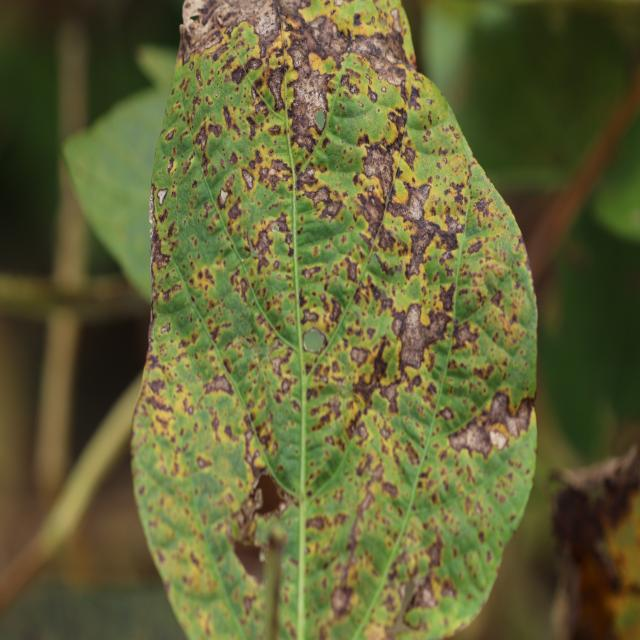Bacterial_Blight: (335, 404, 413, 498), (391, 292, 453, 376), (469, 226, 530, 307), (230, 469, 289, 545), (354, 30, 412, 91), (297, 13, 349, 67), (351, 343, 392, 409), (248, 211, 291, 271), (485, 389, 533, 440), (360, 141, 398, 203), (306, 391, 348, 439), (252, 155, 293, 197), (297, 179, 339, 218), (185, 467, 227, 499), (252, 2, 283, 42), (366, 253, 401, 287), (150, 229, 174, 278), (264, 65, 286, 111), (194, 120, 218, 158), (411, 578, 439, 609), (329, 584, 354, 617), (386, 106, 408, 143), (145, 388, 174, 413), (203, 372, 233, 394), (303, 327, 327, 354), (152, 521, 176, 547), (448, 181, 467, 210), (226, 196, 243, 224), (270, 352, 289, 375), (350, 345, 371, 365), (389, 6, 403, 35), (414, 182, 432, 204), (345, 258, 360, 283), (177, 22, 189, 52), (301, 308, 320, 326), (243, 230, 256, 256), (148, 309, 157, 345), (230, 65, 246, 84), (148, 188, 156, 226), (241, 168, 254, 191), (214, 7, 228, 28), (314, 109, 326, 129), (156, 187, 168, 206), (196, 455, 211, 469), (218, 188, 229, 205), (165, 126, 176, 141), (229, 151, 240, 166), (166, 157, 175, 174), (160, 322, 171, 335), (197, 269, 207, 283), (195, 68, 203, 85), (368, 184, 374, 193), (214, 90, 219, 98)
Soybean: (132, 0, 537, 639)
